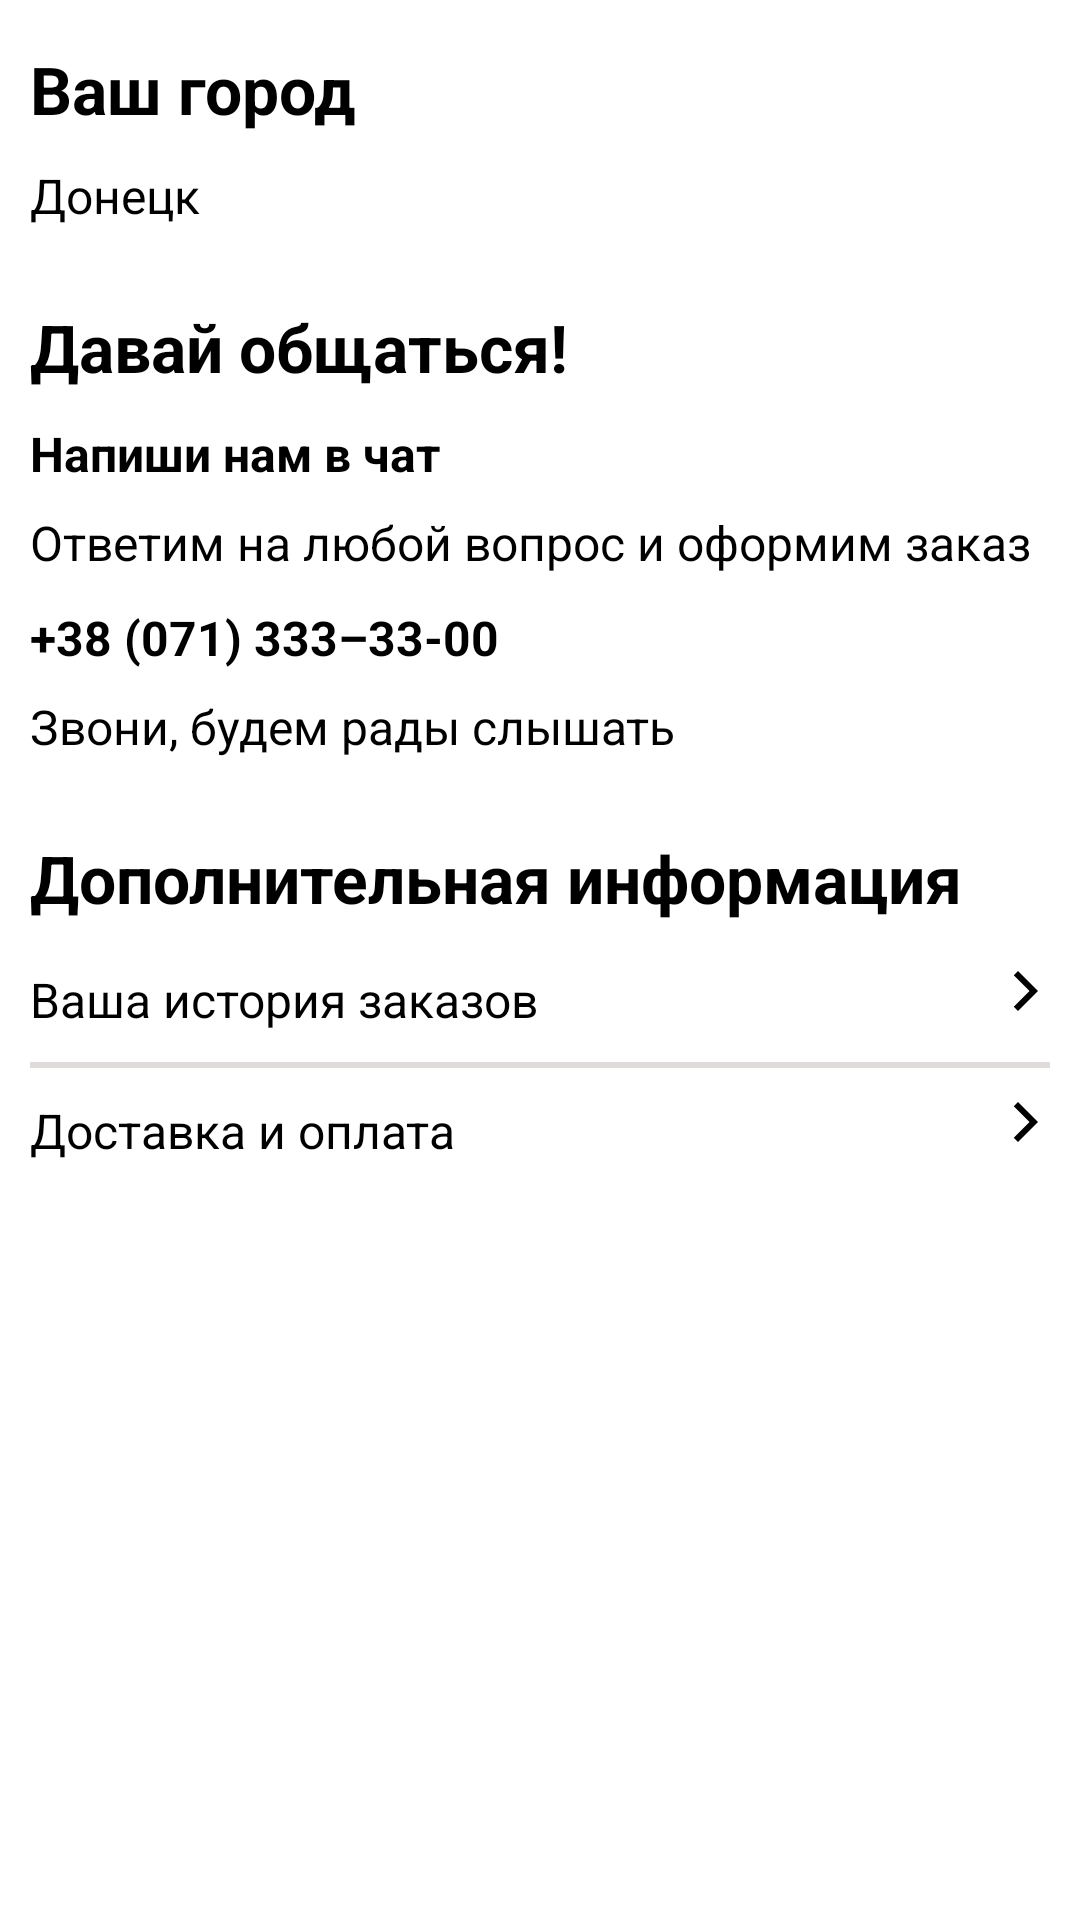

Screen size 1080px×1920px. Icon name, then its center in pixels as point (x, y):
arrow: point (1026, 991), point (1026, 1122)
